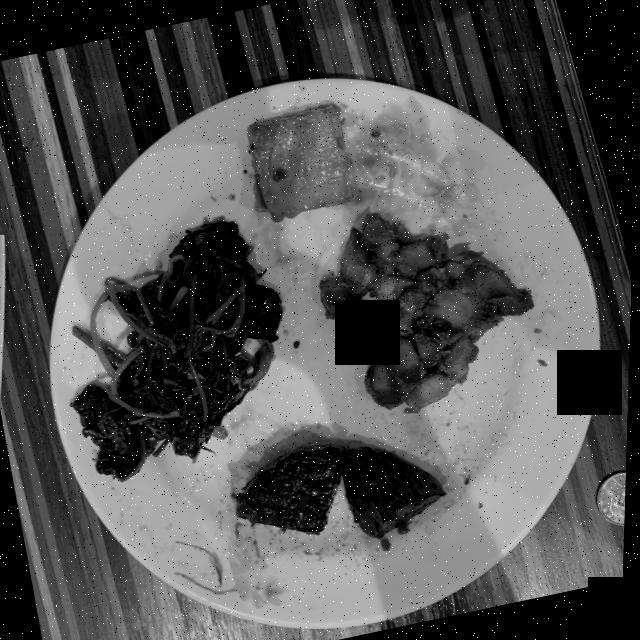coin: (599, 470, 629, 525)
creamy tofu: (248, 103, 354, 222)
red grilled pork: (321, 215, 535, 411)
sweet potato leaves: (75, 221, 284, 480)
